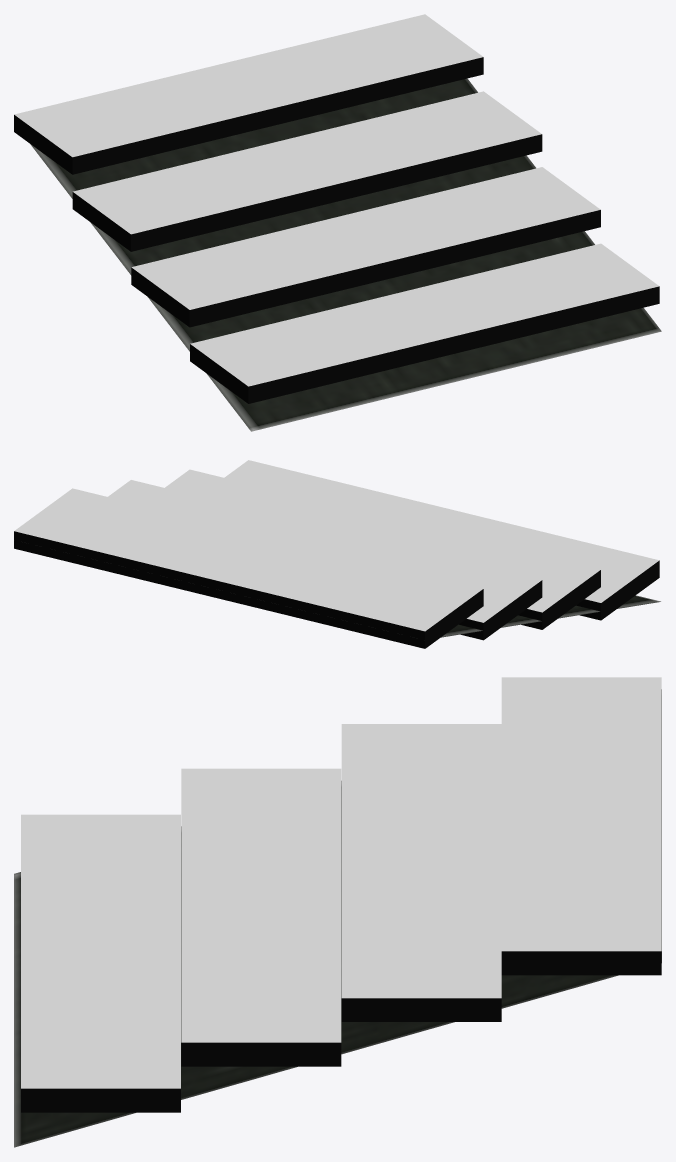
Rendered from CubeBaseFrontStaircase1.fbx.
3 views of the same model, one above another, from view 1: azimuth 30°, elevation 25°; view 2: azimuth 150°, elevation 25°; view 3: azimuth 270°, elevation 25° (orthographic). The views are drawn at different scales.
Parts seen in each view (by area): view 1: pCube1, pCube8, pCube9, pCube10, pCube2; view 2: pCube2, pCube9, pCube10, pCube8, pCube1; view 3: pCube2, pCube9, pCube8, pCube10, pCube1.
Boxes of the visible parts, bbox=[...] form: pCube1: bbox=[30, 78, 661, 431]; pCube8: bbox=[72, 91, 542, 251]; pCube9: bbox=[131, 167, 600, 327]; pCube10: bbox=[190, 243, 659, 403]; pCube2: bbox=[14, 14, 483, 174]; pCube2: bbox=[14, 488, 483, 648]; pCube9: bbox=[165, 469, 600, 629]; pCube10: bbox=[224, 460, 659, 620]; pCube8: bbox=[108, 480, 542, 640]; pCube1: bbox=[441, 595, 660, 637]; pCube2: bbox=[501, 677, 661, 975]; pCube9: bbox=[181, 768, 341, 1066]; pCube8: bbox=[341, 724, 501, 1021]; pCube10: bbox=[21, 814, 180, 1112]; pCube1: bbox=[14, 689, 661, 1147].
Bounding box in the file's own units: 1 × 0.3344 × 1.
3 materials, 1 textured.
